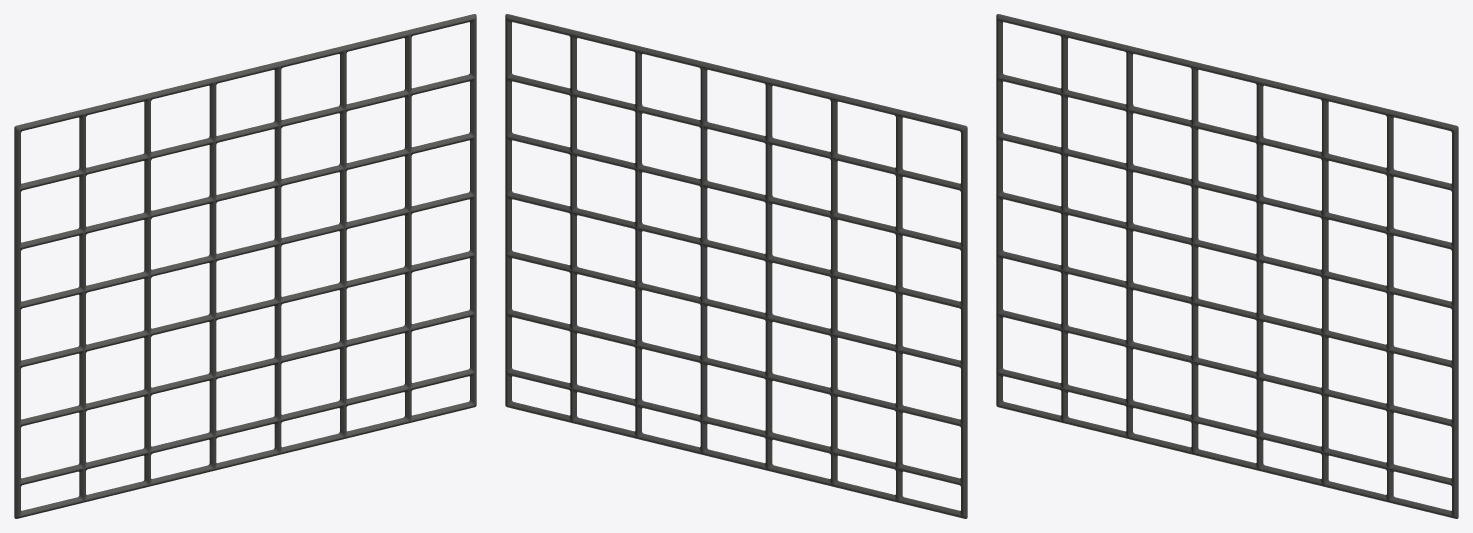
File: cell_bars.fbx
The picture shows the model from 3 angles, left to right: view 1: azimuth 30°, elevation 25°; view 2: azimuth 150°, elevation 25°; view 3: azimuth 330°, elevation 25°; orthographic projection.
Visible parts, largest first — view 1: Plane.279; view 2: Plane.279; view 3: Plane.279.
Boxes of the visible parts, bbox=[...] form: Plane.279: bbox=[14, 14, 476, 518]; Plane.279: bbox=[505, 14, 967, 518]; Plane.279: bbox=[996, 14, 1458, 518].
Size of the model in its own units: 182 by 148 by 2.59.
